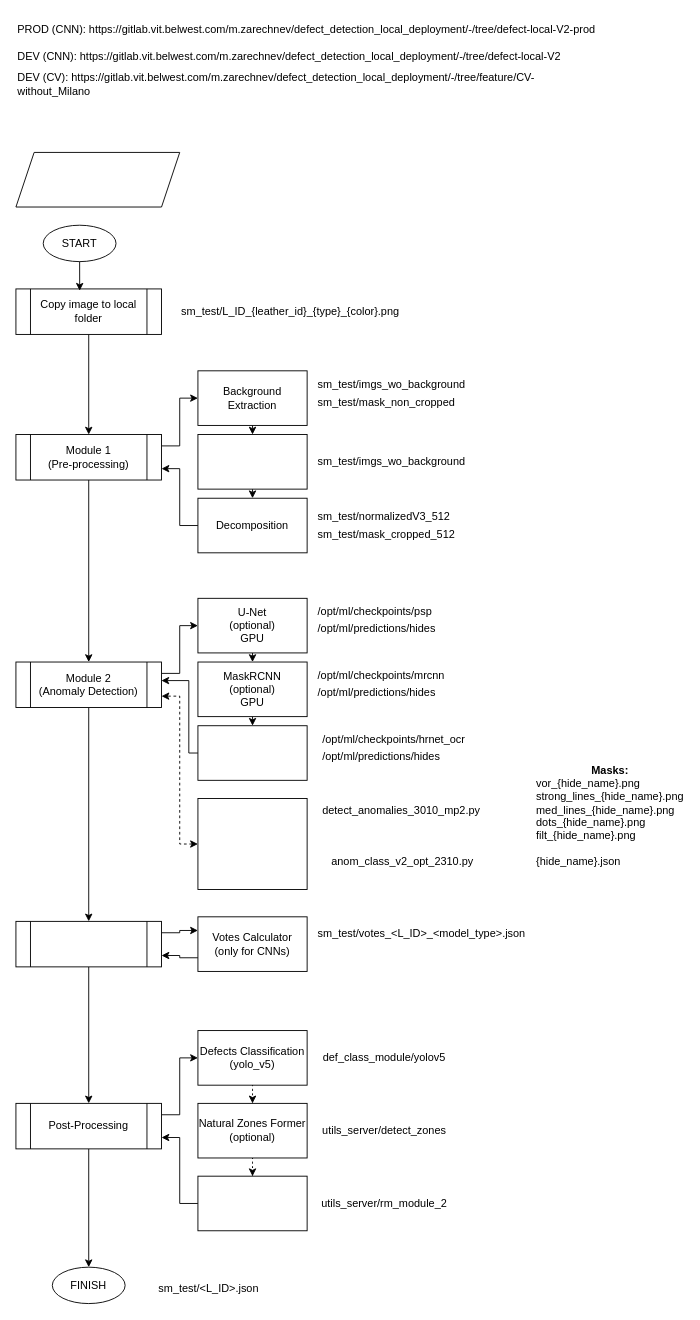
The diagram is 700 pixels wide and 1320 high, and some of its shapes have lost their labels. Here are the shapes that lost their labels. From the top down, the centre of each, then its label:
the point at 97,179: path:str leather_id: int64 transform_matrix: array
the point at 252,461: Hide Normalization
the point at 252,752: HRNet-OCR (optional) GPU
the point at 252,844: CV (optional) CPU
the point at 88,943: Module 3 (Voting)
the point at 252,1203: MR Module (optional)
